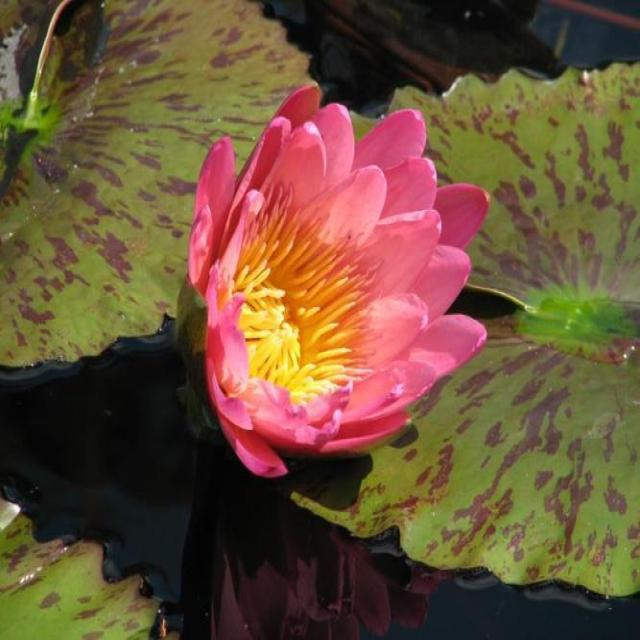water-lily: (166, 64, 490, 509)
